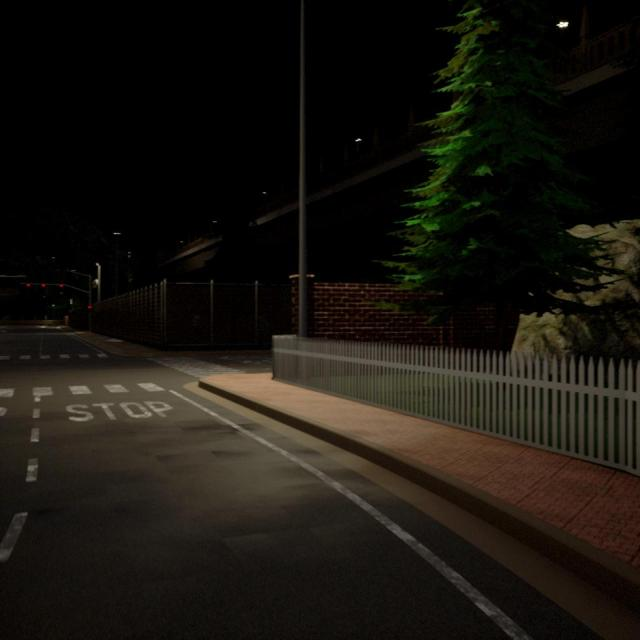traffic_light: (26, 283, 31, 287), (88, 305, 92, 309), (60, 284, 64, 288), (41, 284, 46, 287)
